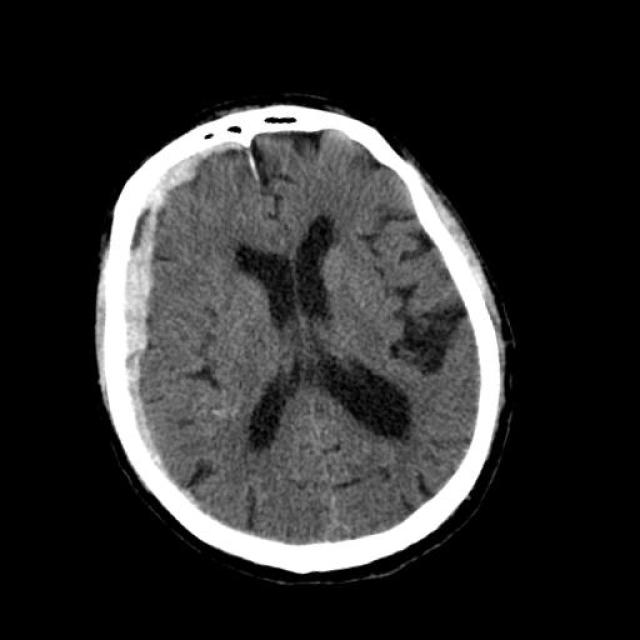Subdural: (26, 115, 300, 526)
